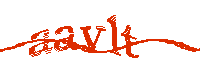a: (28, 29, 51, 57), (54, 25, 75, 53)
l: (106, 14, 121, 58)
t: (121, 24, 139, 59)
v: (80, 25, 107, 54)
